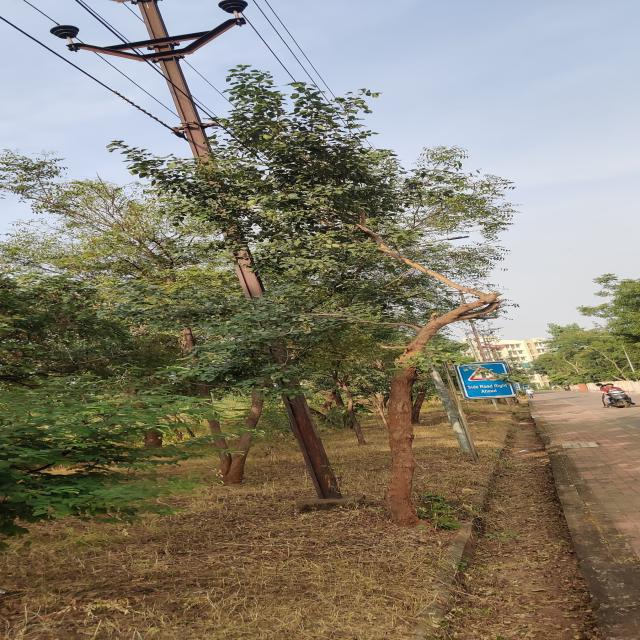Devakanchan tree: (189, 84, 452, 371)
Neem Tree: (5, 165, 162, 269)
